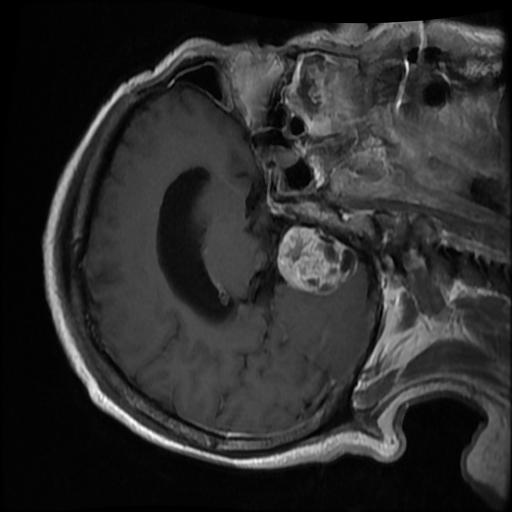meningioma: (273, 226, 356, 297)
